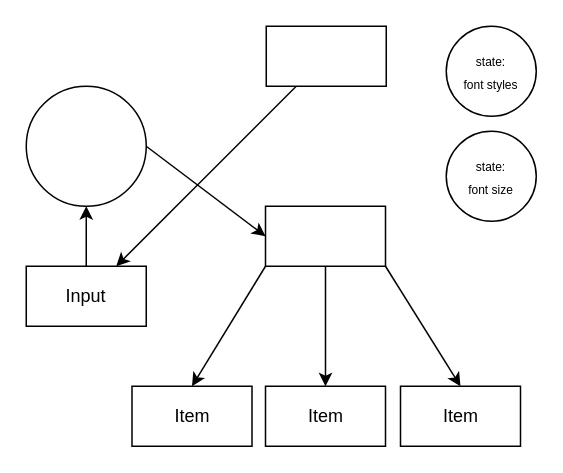
This 563x473 diagram has some shape labels left out. Each missing label, with the centre of its shape:
App: pixel 325 55
Item List: pixel 325 235
state: text entered: pixel 85 145
